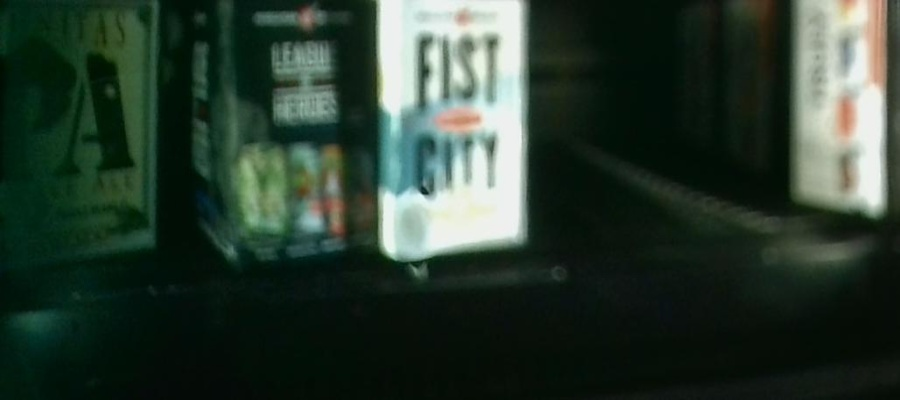bottle: (186, 4, 376, 265), (4, 1, 162, 261), (376, 1, 530, 258)
